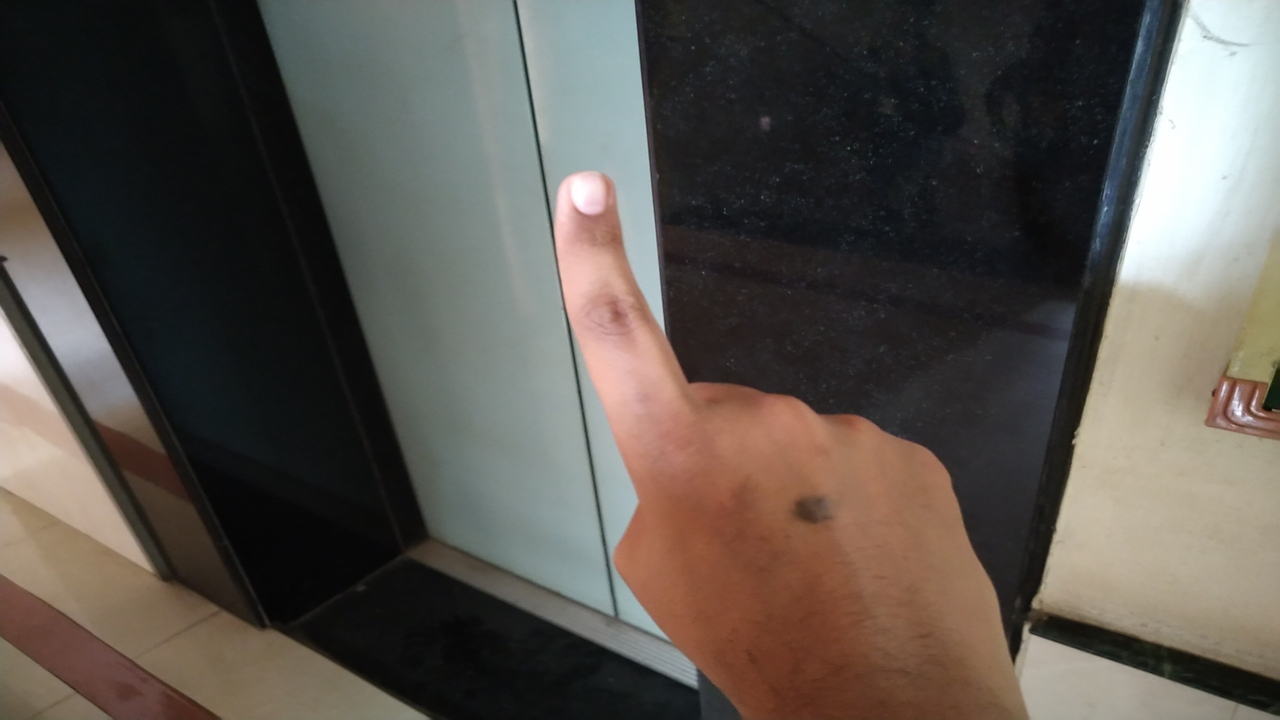fingertip: (548, 166, 626, 232)
